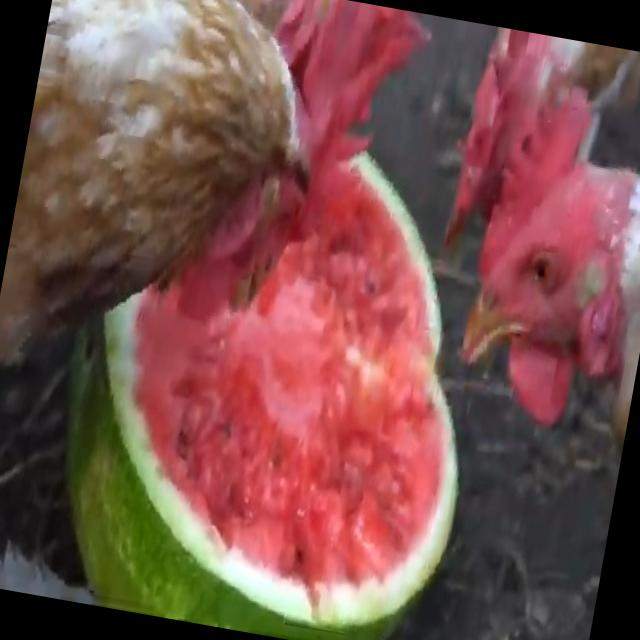feeding: (0, 0, 427, 460), (420, 76, 640, 421), (444, 23, 640, 253)
